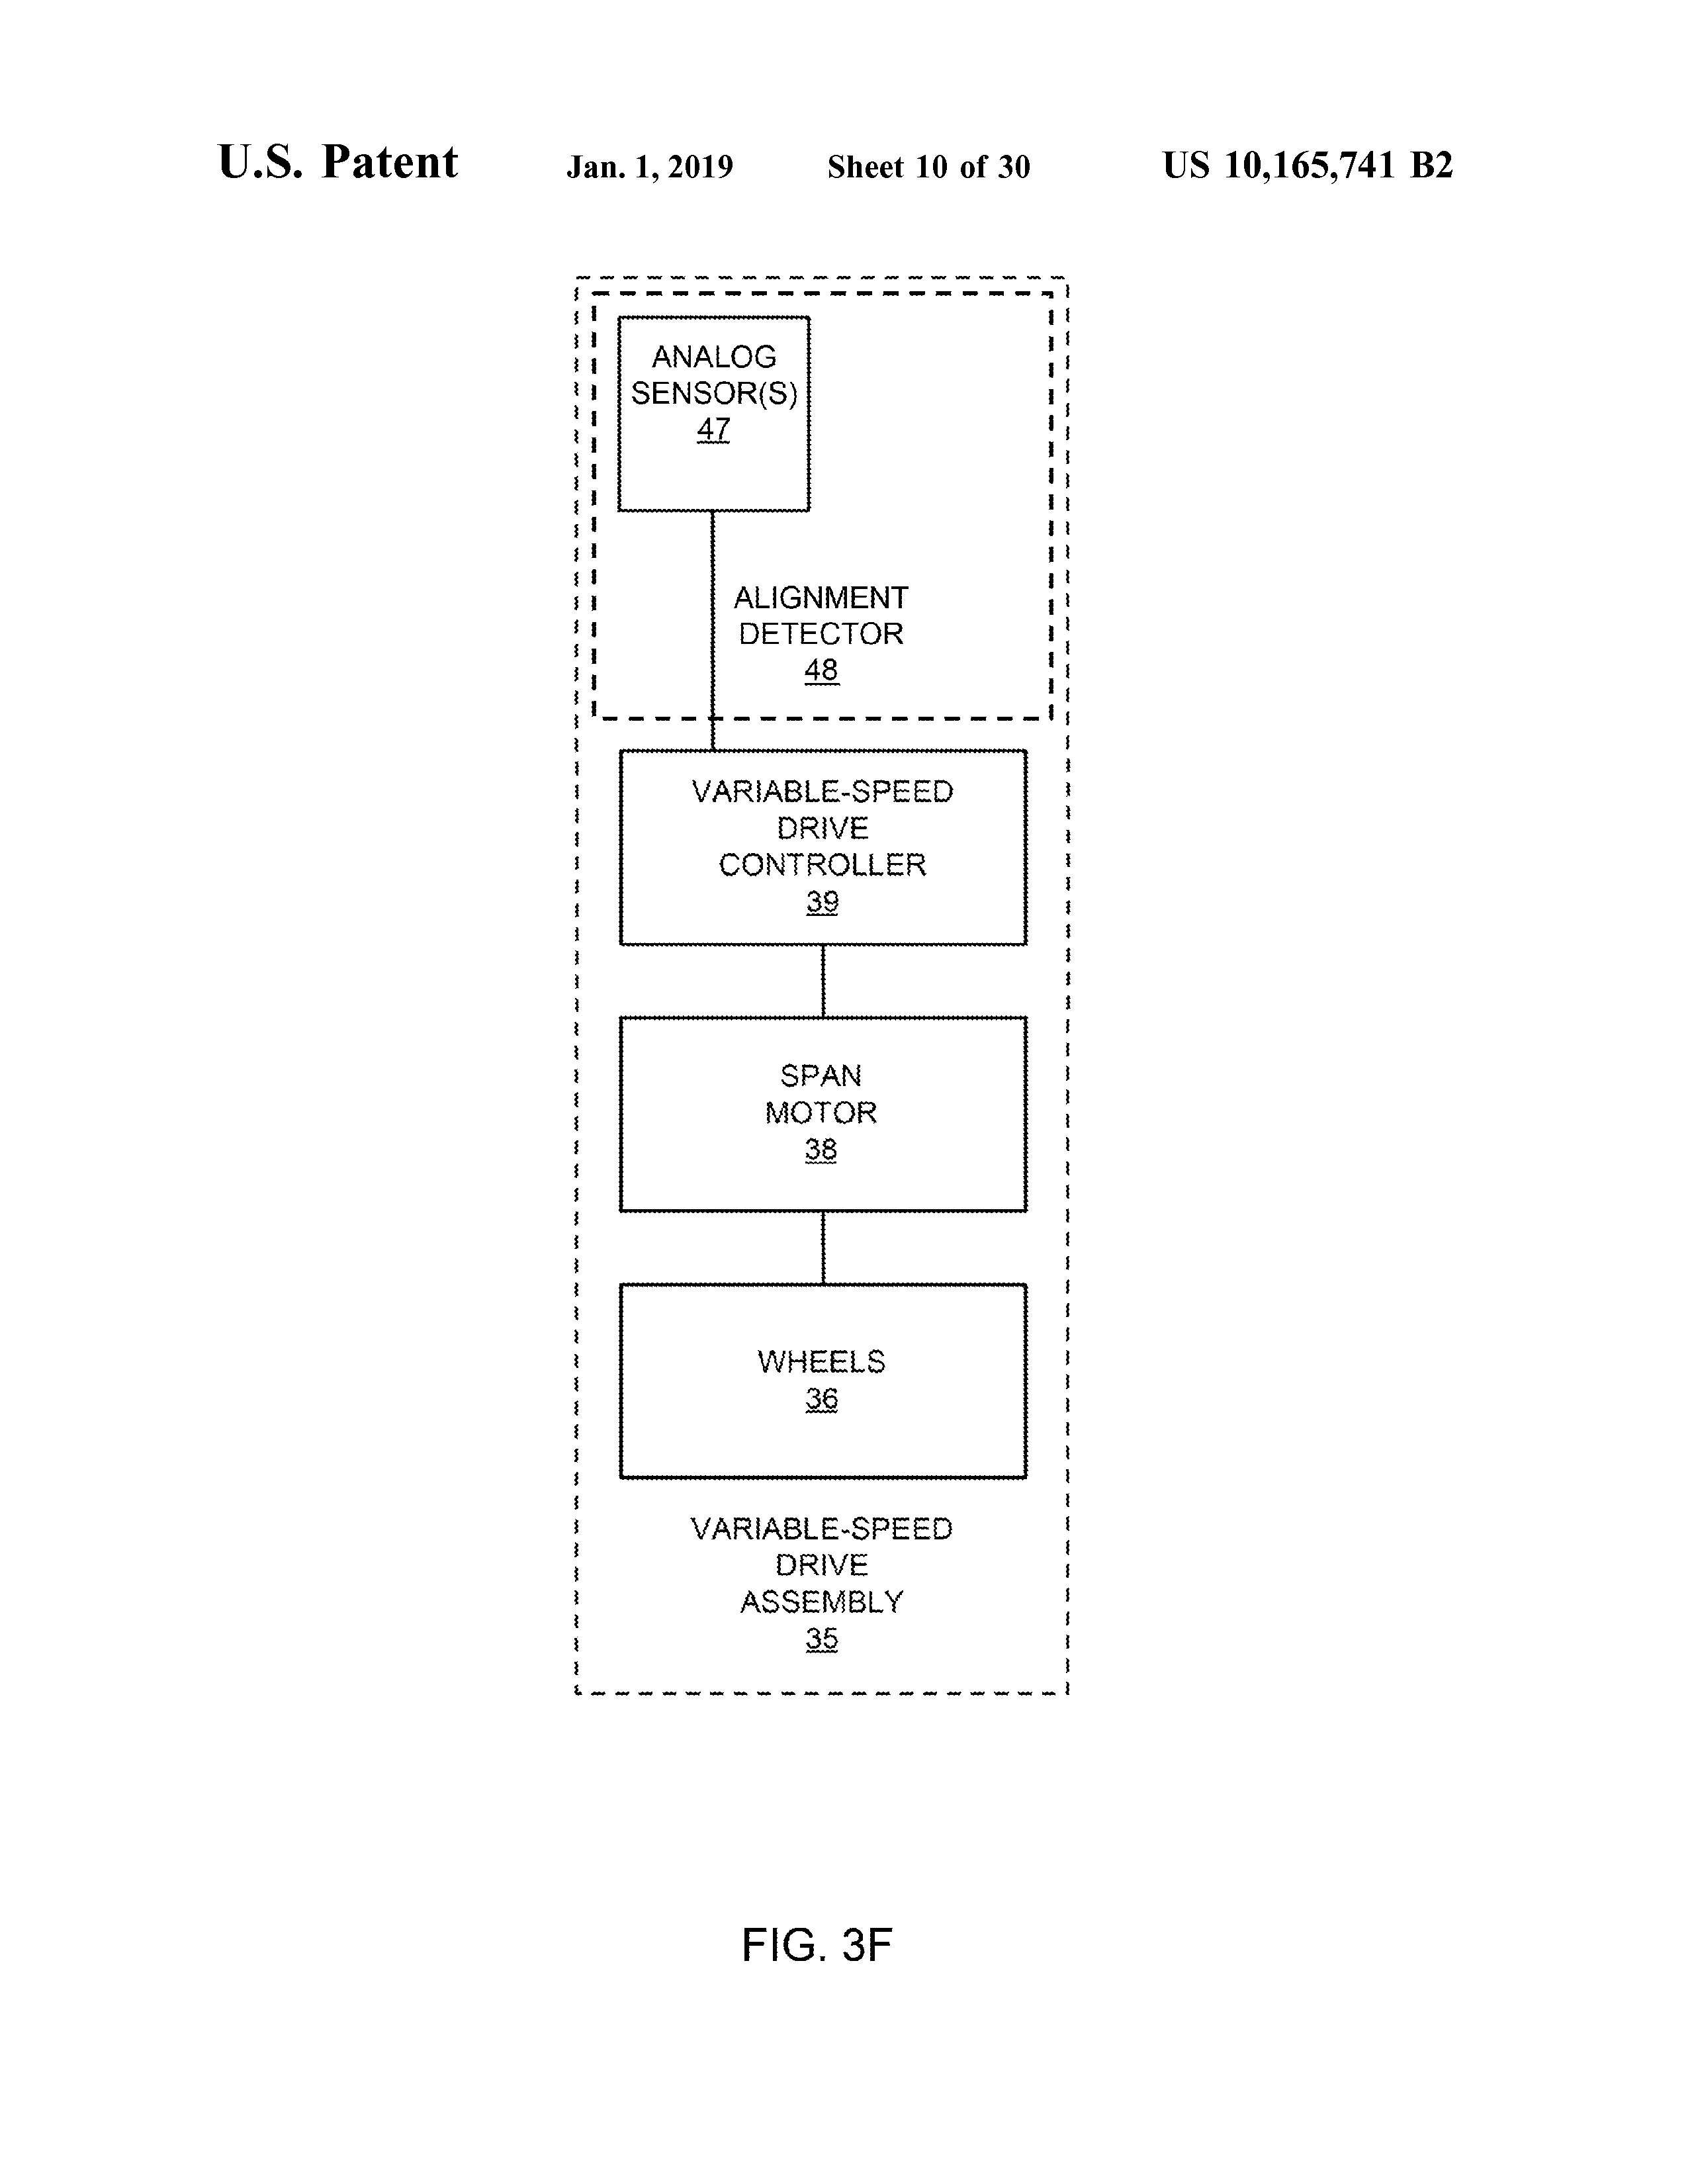patent image: (551, 253, 1091, 1969)
